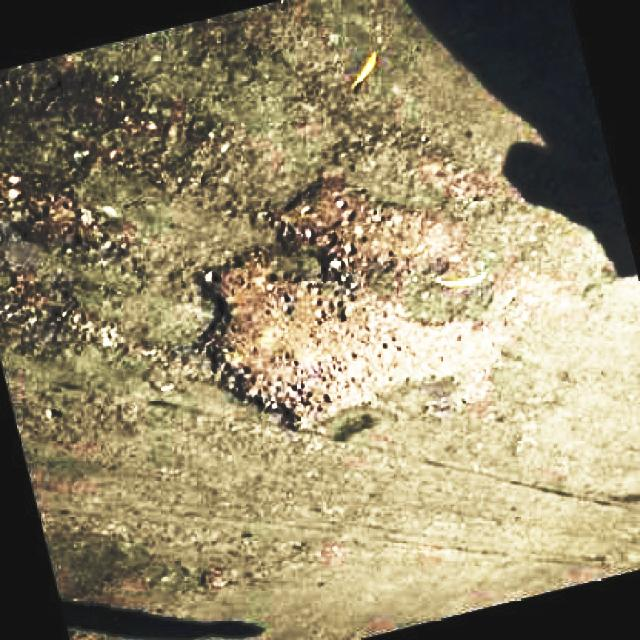pothole: (185, 226, 503, 437), (0, 65, 240, 200), (275, 169, 471, 297), (0, 168, 131, 268), (0, 275, 138, 364)
